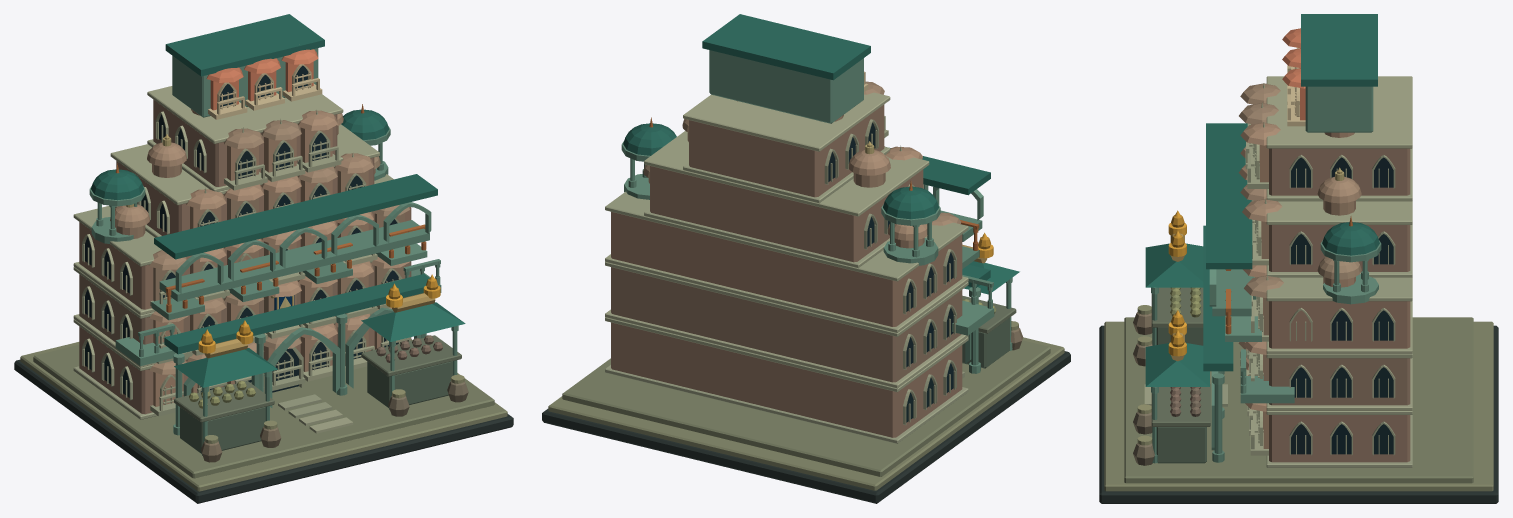
3 views of the same model, side by side, from view 1: azimuth 30°, elevation 25°; view 2: azimuth 150°, elevation 25°; view 3: azimuth 270°, elevation 25° (orthographic). The views are drawn at different scales.
Parts seen in each view (by area): view 1: market_L8_0, market_L8_1; view 2: market_L8_0; view 3: market_L8_0, market_L8_1.
Boxes of the visible parts, <box> form: market_L8_0: <box>14,14,513,503</box>; market_L8_1: <box>115,104,440,353</box>; market_L8_0: <box>542,14,1070,503</box>; market_L8_0: <box>1099,14,1498,503</box>; market_L8_1: <box>1168,167,1352,356</box>.
Bounding box in the file's own units: 5.6 × 5.79 × 5.6.
